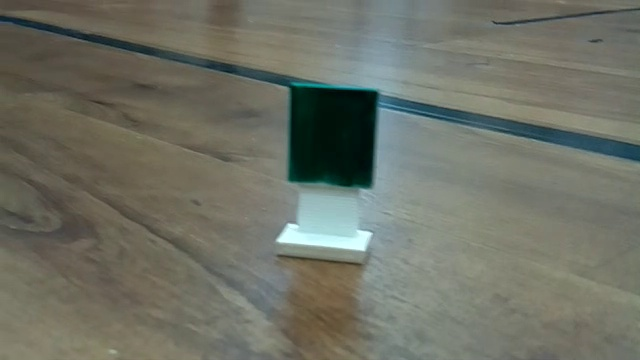rect: (263, 74, 399, 272)
